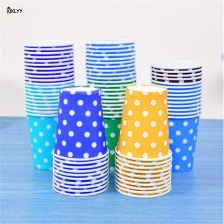paper_cup: (80, 34, 141, 174), (18, 33, 78, 174), (112, 81, 176, 199), (49, 82, 113, 198), (145, 55, 205, 175)
